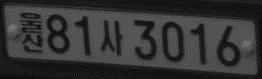0: (160, 20, 185, 61)
1: (71, 11, 92, 57), (188, 20, 208, 66)
3: (133, 17, 158, 61)
6: (216, 23, 242, 68)
8: (45, 12, 69, 54)
사: (98, 18, 124, 58)
울산_V: (18, 10, 44, 54)
